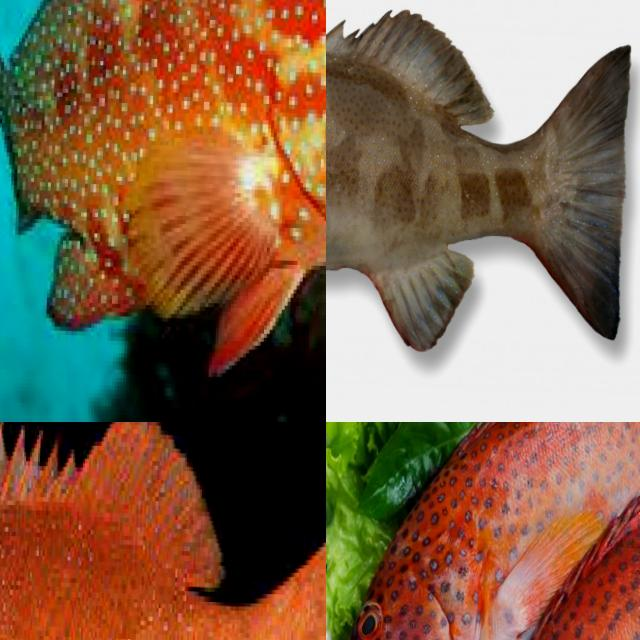Plectropomus-leopardus: (0, 0, 326, 394), (326, 0, 640, 386), (0, 422, 326, 640), (326, 422, 640, 640), (445, 422, 640, 640)
